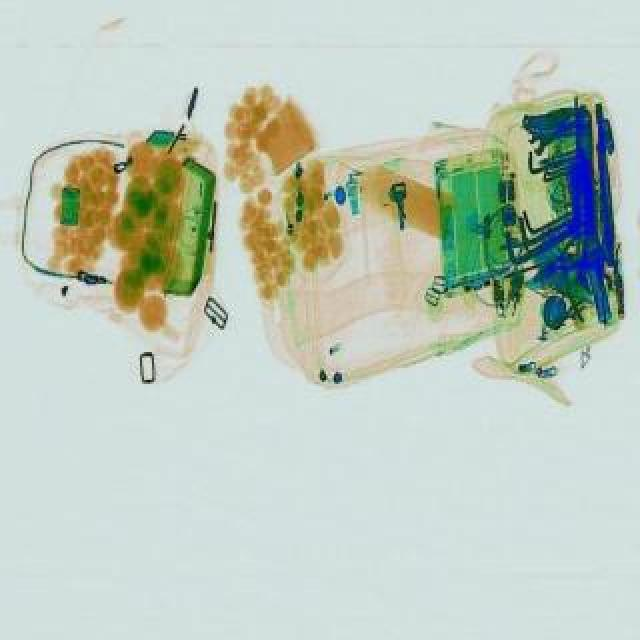scissors: (520, 106, 596, 162)
wrench: (522, 234, 602, 298)
